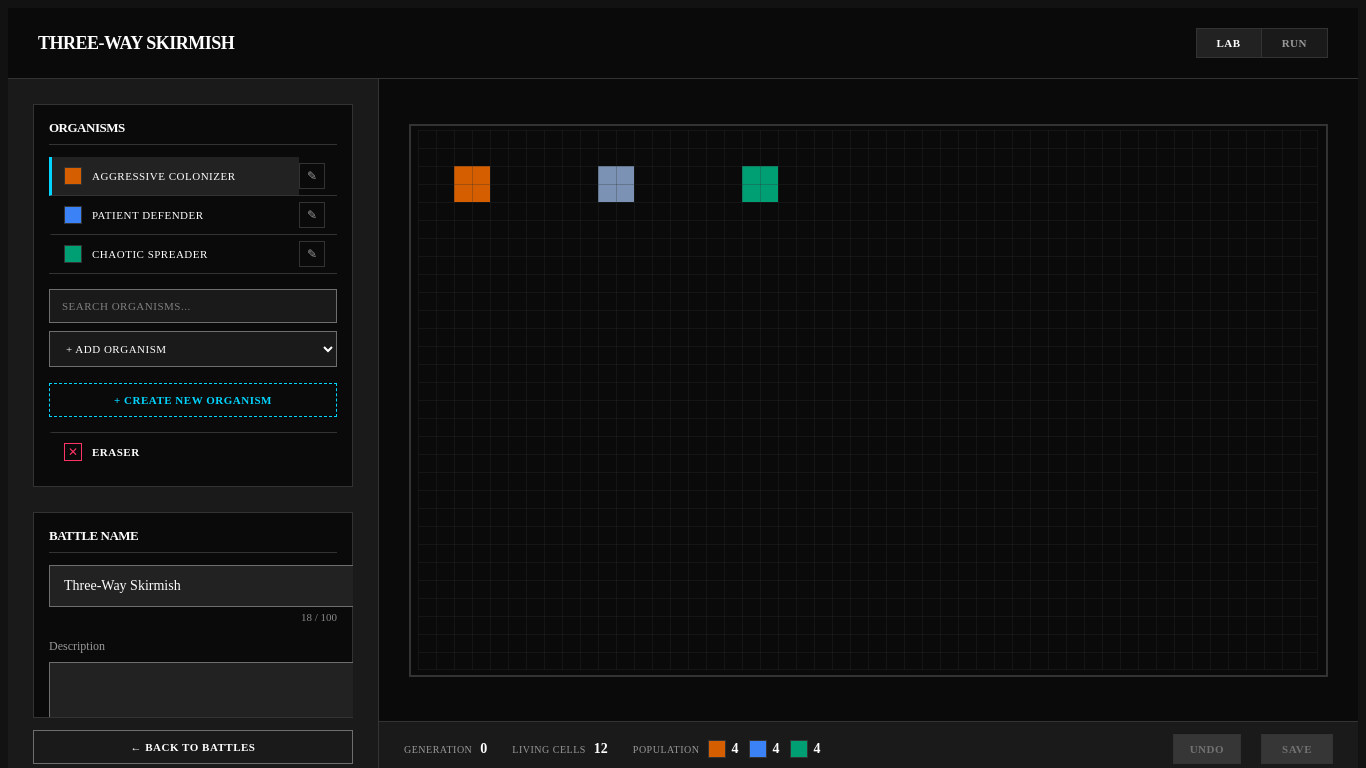
Test: BattlePage — edit organism from battle (Story 4.24) › the open battle as the SOLE user opens the editor directly, footer still counting it (AC5, ruling c)
Expected: the heading "Three-Way Skirmish" is shown, [38,32,234,54]
Step 1. Click the button named "Edit Aggressive Colonizer" → (312, 176), box [299,163,325,189]
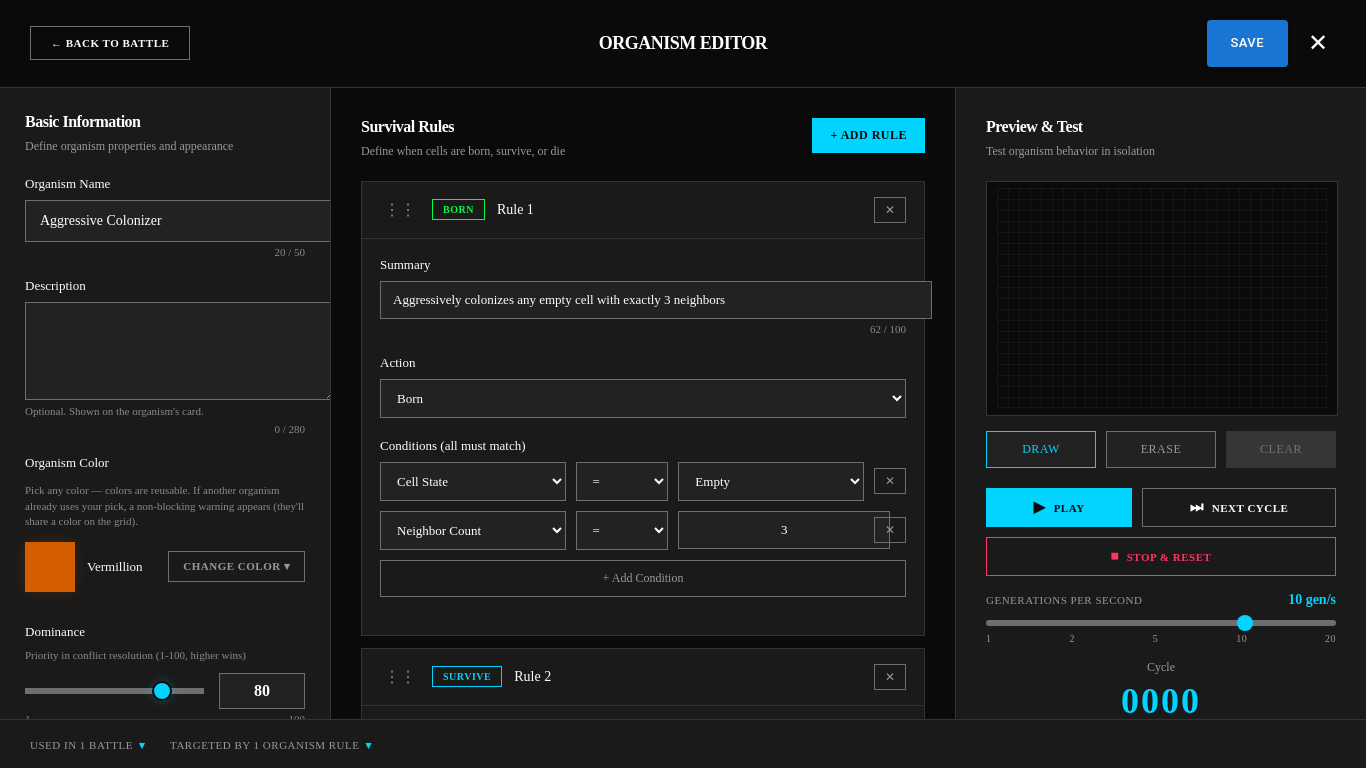
Now the field labelled "Organism Name" holds "Aggressive Colonizer", box [25,200,331,242]
Now the button "Used in 1 Battle ▾" is shown, box [30,738,145,752]
